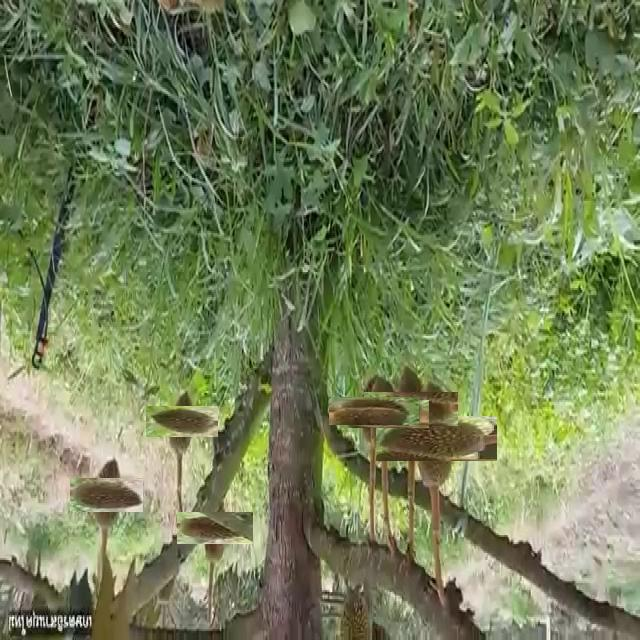durian: (394, 397, 478, 480), (378, 376, 443, 442), (344, 381, 404, 440), (355, 385, 414, 444), (188, 500, 242, 555), (80, 468, 134, 522), (156, 396, 208, 448)
